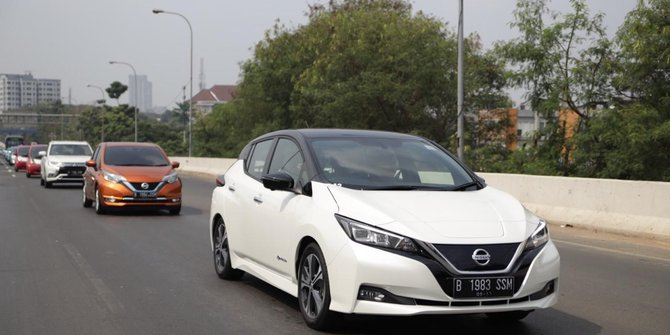plate: (456, 277, 511, 295), (135, 189, 158, 199)
